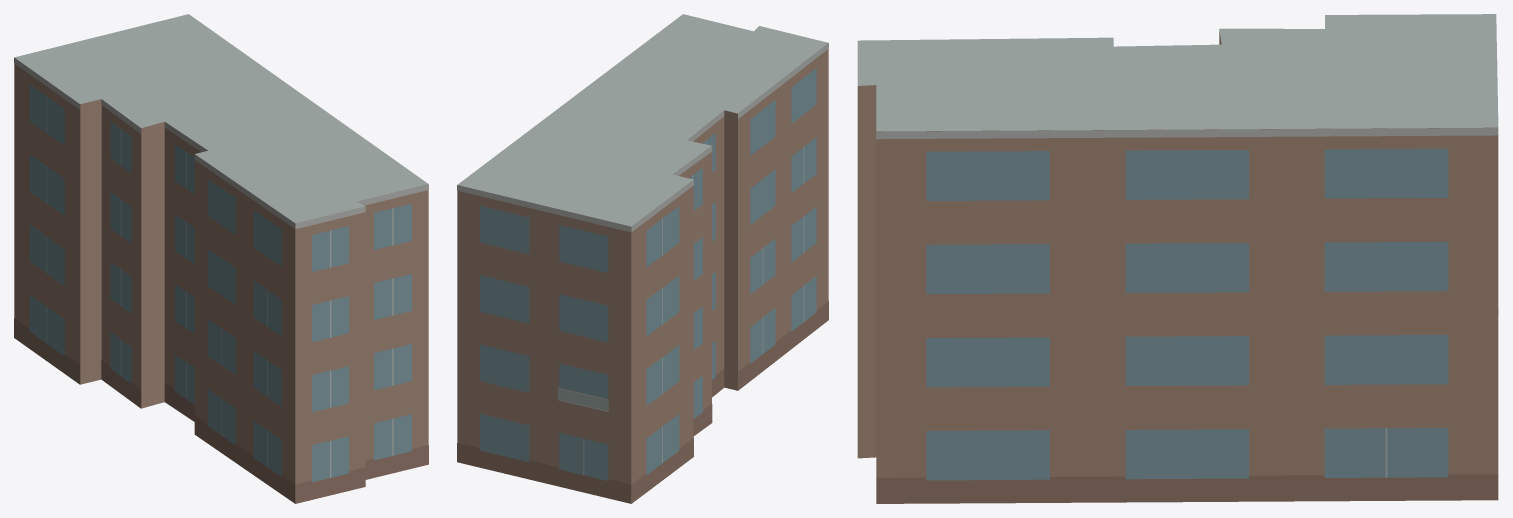
File: survey-upis-32577161.glb
3 renders of one model, left to right at view 1: azimuth 30°, elevation 25°; view 2: azimuth 150°, elevation 25°; view 3: azimuth 270°, elevation 25°, orthographic. The views are drawn at different scales.
Parts seen in each view (by area): view 1: survey-upis-32577161.tmp; view 2: survey-upis-32577161.tmp; view 3: survey-upis-32577161.tmp.
Part boxes in pixels (<box>): survey-upis-32577161.tmp: <box>14,14,428,503</box>; survey-upis-32577161.tmp: <box>457,14,828,503</box>; survey-upis-32577161.tmp: <box>857,14,1498,503</box>.
Bounding box in the file's own units: 7.92 × 11.7 × 18.26.
